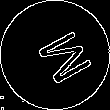M_SW: (22, 22, 88, 88)
